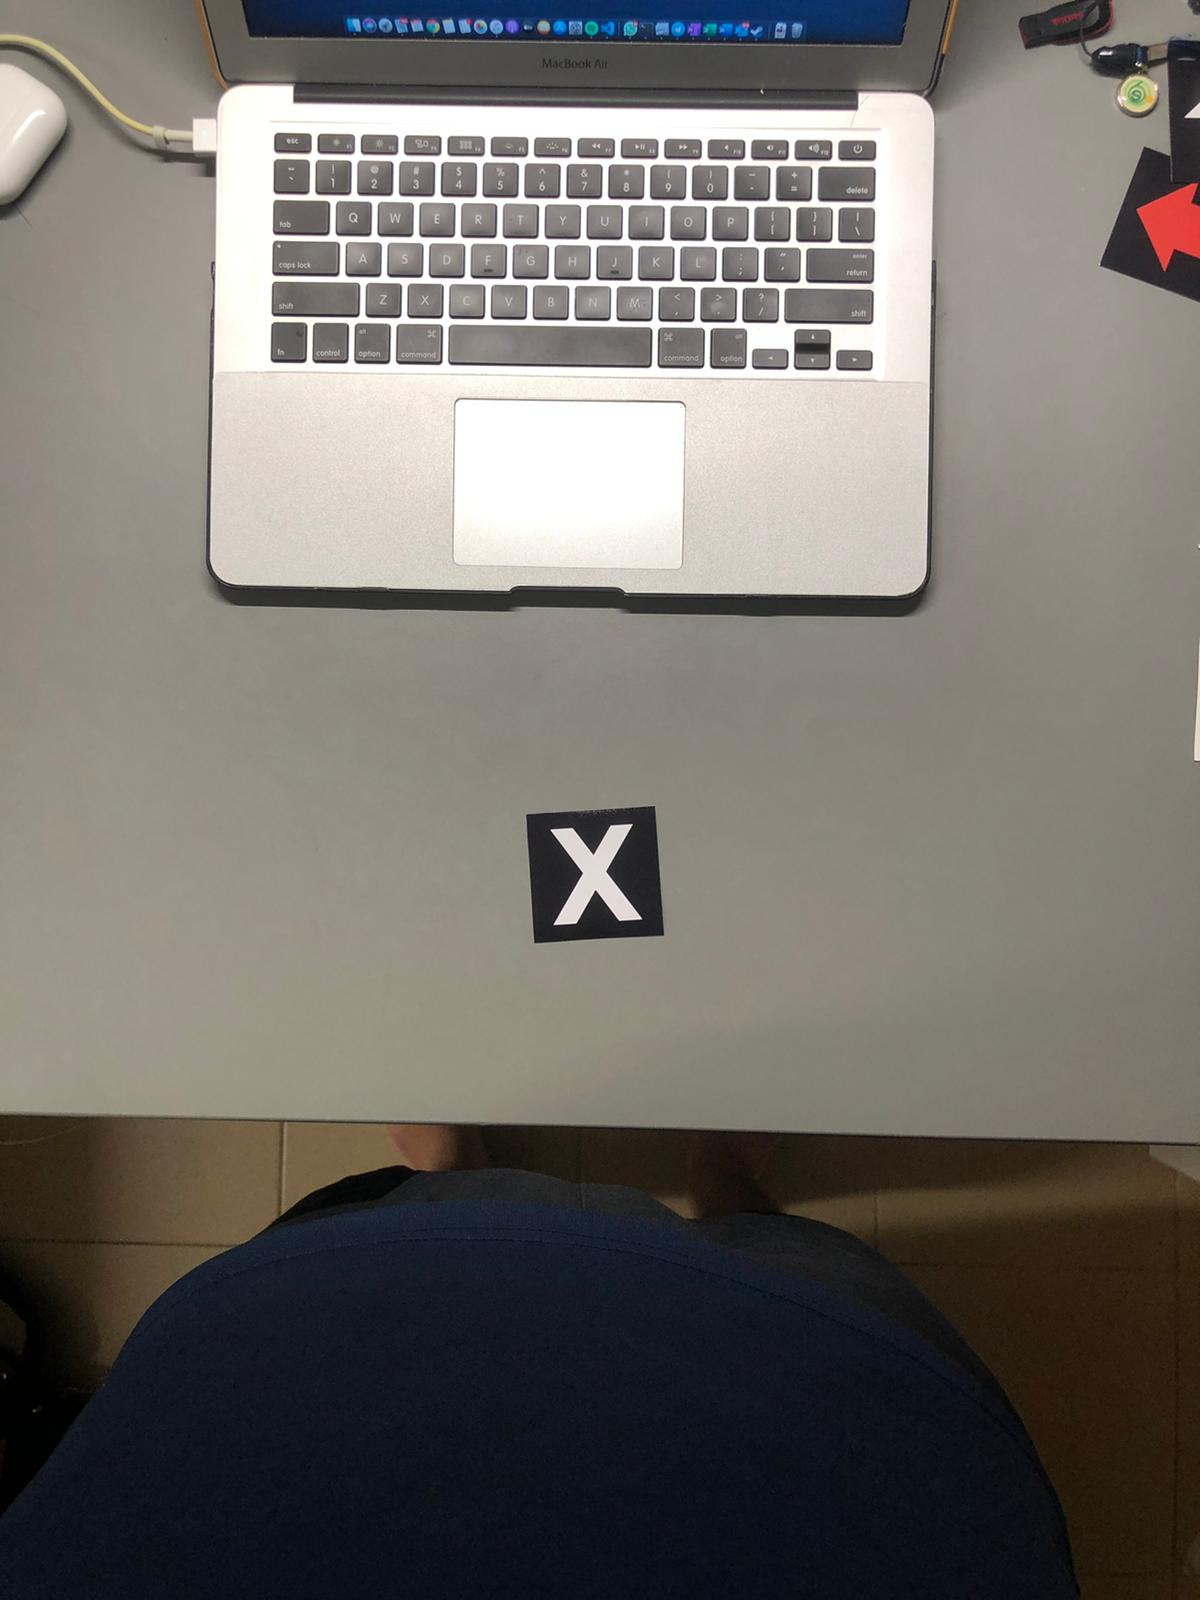X: (522, 815, 666, 944)
